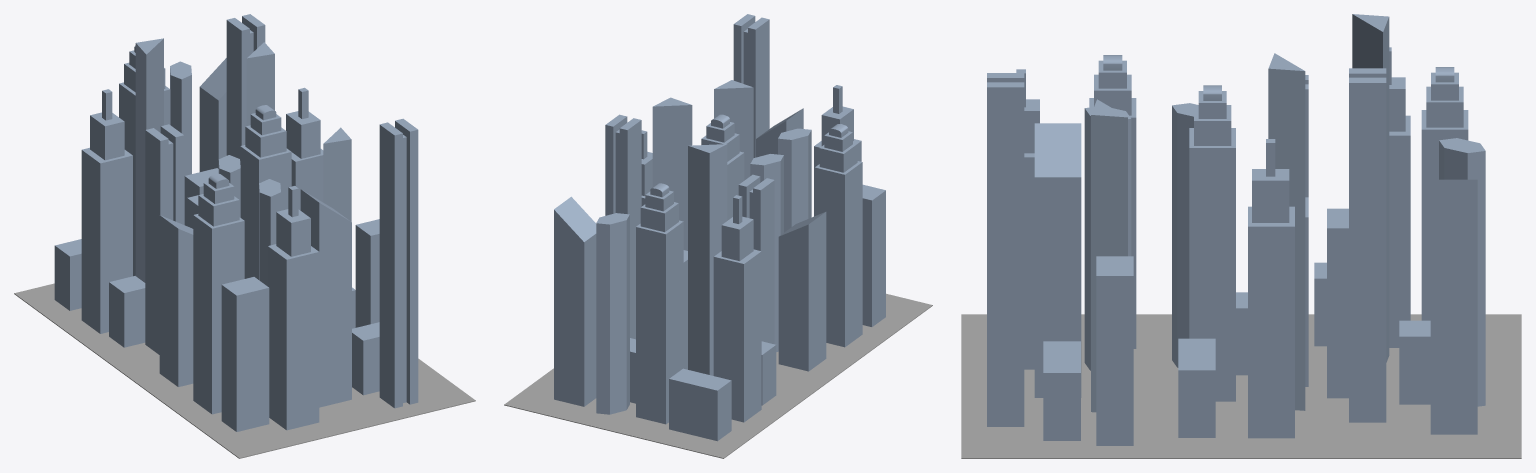
The model's file is utopia_mod1.fbx.
The picture shows the model from 3 angles, left to right: view 1: azimuth 30°, elevation 25°; view 2: azimuth 150°, elevation 25°; view 3: azimuth 270°, elevation 25°; orthographic projection. The views are drawn at different scales.
Parts seen in each view (by area): view 1: med_building (×2), tall2_building (×3), sidewalk11, tall_building (×3), sanwich_building2, trianagle_building (×3), plain_build (×2), sanwich_building, med_building1 (×3), building (×3), small_building (×2), sanwich_building1 (+5 smaller); view 2: tall2_building (×3), tall_building (×3), trianagle_building (×3), building (×3), sidewalk11, med_building, sanwich_building1, small_building, plain_build (×2), sanwich_building, sanwich_building2, med_building1 (×3) (+3 smaller); view 3: sidewalk11, tall2_building (×2), trianagle_building (×3), tall_building (×3), sanwich_building1, sanwich_building2, building (×3), med_building3, small_building (×2), plain_build4, med_building (×2), plain_build (×2) (+4 smaller).
Boxes of the visible parts, x1=… form: med_building (×2): x1=81, y1=147, x2=319, y2=430; tall2_building (×3): x1=159, y1=58, x2=351, y2=407; sidewalk11: x1=14, y1=283, x2=475, y2=458; tall_building (×3): x1=119, y1=82, x2=291, y2=414; sanwich_building2: x1=379, y1=118, x2=418, y2=408; trianagle_building (×3): x1=135, y1=38, x2=351, y2=282; plain_build (×2): x1=184, y1=168, x2=269, y2=431; sanwich_building: x1=145, y1=124, x2=184, y2=354; med_building1 (×3): x1=90, y1=111, x2=320, y2=256; building (×3): x1=170, y1=61, x2=280, y2=286; small_building (×2): x1=54, y1=239, x2=379, y2=395; sanwich_building1: x1=226, y1=14, x2=265, y2=160; tall2_building (×3): x1=554, y1=108, x2=826, y2=406; tall_building (×3): x1=636, y1=151, x2=862, y2=424; trianagle_building (×3): x1=652, y1=80, x2=753, y2=375; building (×3): x1=596, y1=128, x2=811, y2=414; sidewalk11: x1=504, y1=293, x2=932, y2=458; med_building: x1=713, y1=249, x2=761, y2=422; sanwich_building1: x1=605, y1=114, x2=641, y2=339; small_building: x1=669, y1=368, x2=731, y2=441; plain_build (×2): x1=683, y1=184, x2=885, y2=369; sanwich_building: x1=738, y1=174, x2=774, y2=344; sanwich_building2: x1=733, y1=14, x2=769, y2=157; med_building1 (×3): x1=641, y1=106, x2=853, y2=261; sidewalk11: x1=961, y1=314, x2=1521, y2=458; tall2_building (×2): x1=1034, y1=123, x2=1477, y2=434; trianagle_building (×3): x1=1091, y1=14, x2=1389, y2=412; tall_building (×3): x1=1089, y1=98, x2=1468, y2=401; sanwich_building1: x1=1349, y1=68, x2=1386, y2=422; sanwich_building2: x1=987, y1=73, x2=1024, y2=426; building (×3): x1=1084, y1=103, x2=1485, y2=406; med_building3: x1=1248, y1=206, x2=1294, y2=438; small_building (×2): x1=1043, y1=338, x2=1215, y2=440; plain_build4: x1=1096, y1=256, x2=1133, y2=445; med_building (×2): x1=1024, y1=115, x2=1410, y2=369; plain_build (×2): x1=1305, y1=197, x2=1348, y2=398.
Size of the model in its own units: 36.25 by 40.43 by 59.82.
